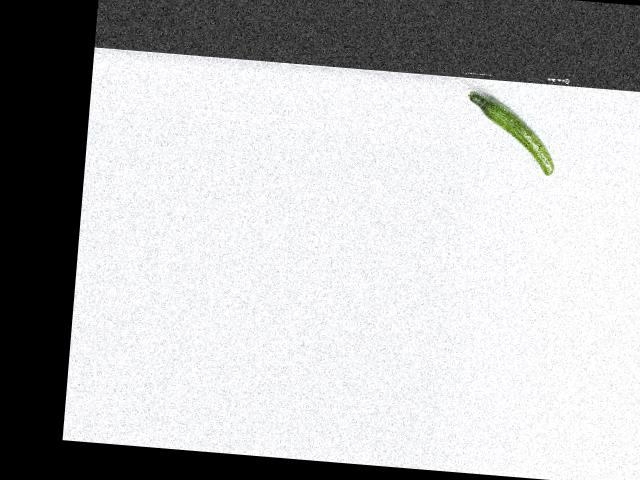cucumber: (461, 91, 558, 175)
